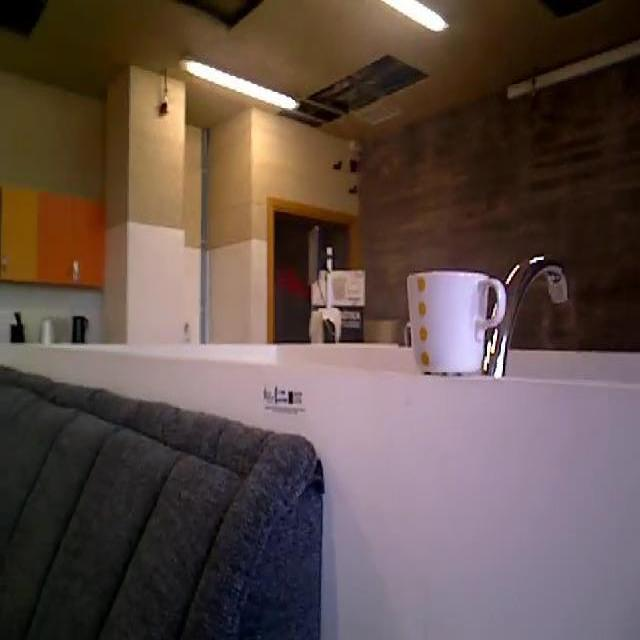cup: (402, 268, 510, 372)
